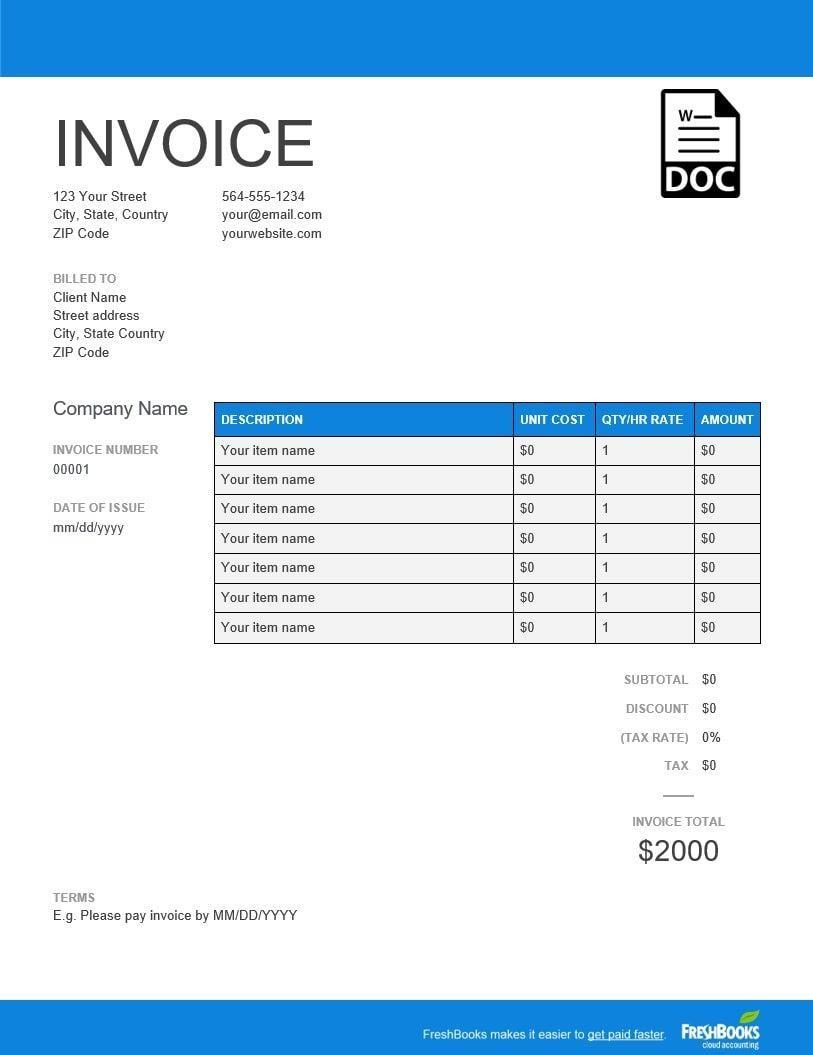ROI: (210, 396, 767, 651), (603, 666, 740, 872), (46, 437, 174, 544), (46, 264, 173, 370), (46, 396, 196, 424)
